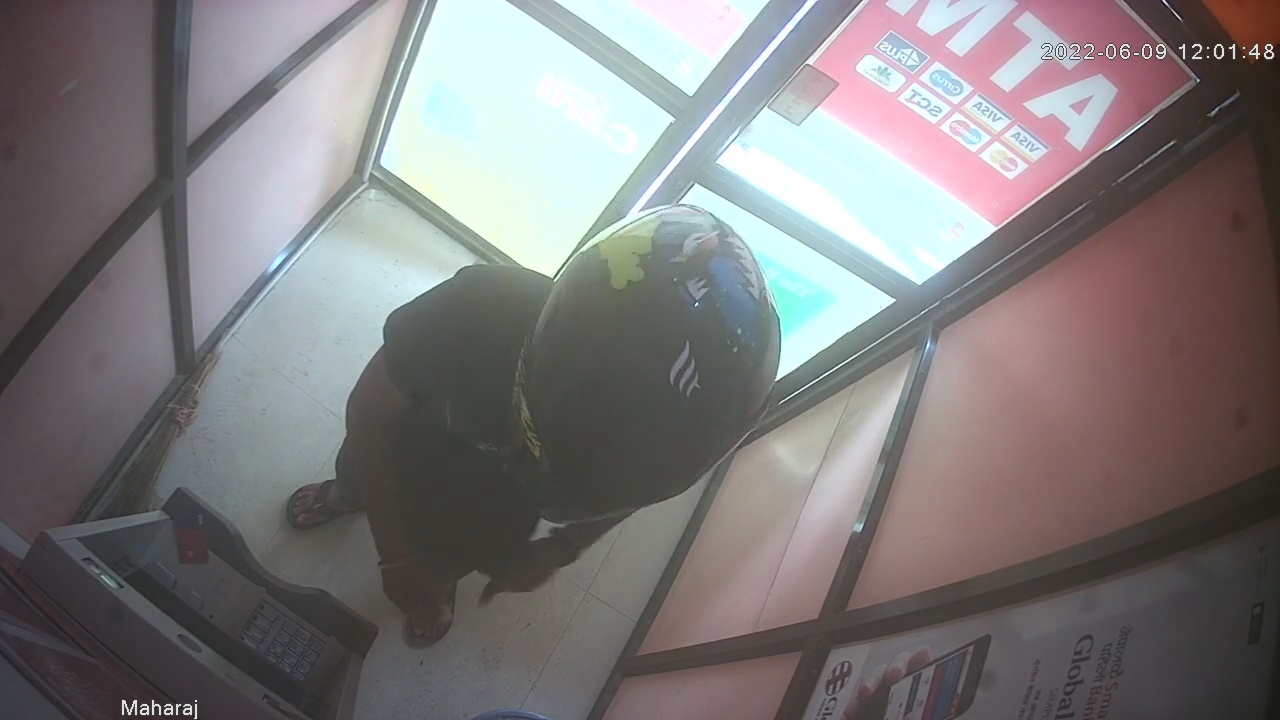helmet: (507, 201, 783, 528)
person: (283, 201, 783, 647)
